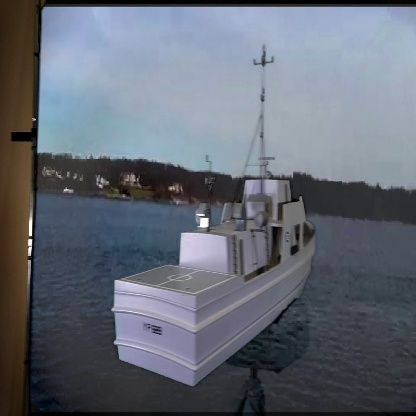YP689: (111, 43, 316, 388)
